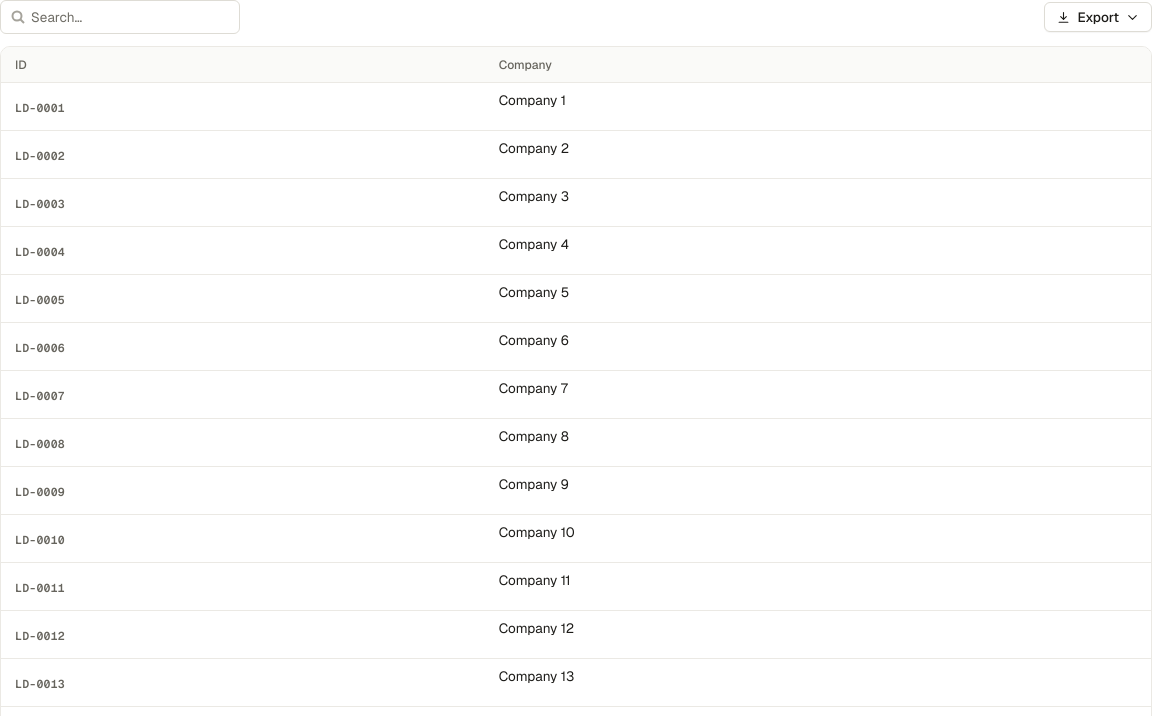
it: DataTable › searches on the server and says so when nothing matches
Expected: the text "Company 1" is shown, [485,83,1151,131]
In the search field labelled "Search": point(120, 17) [0,0,240,34], type "zzz"
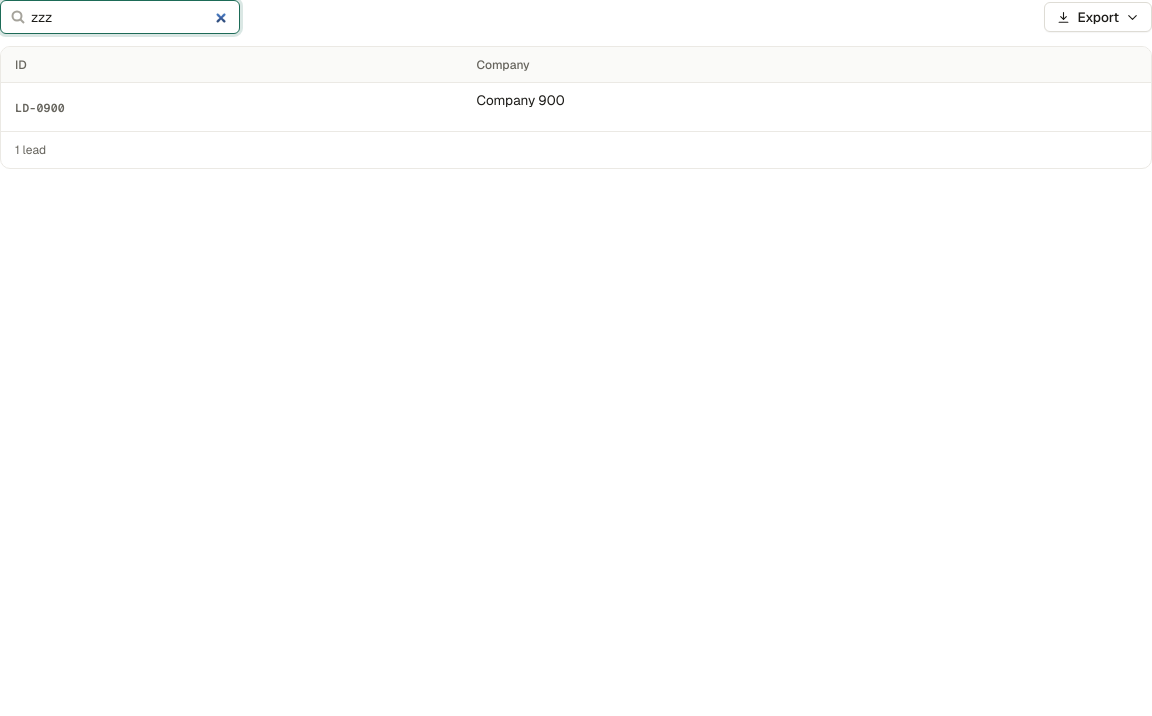
Expected: the text "Company 900" is shown, [463,83,1151,131]
